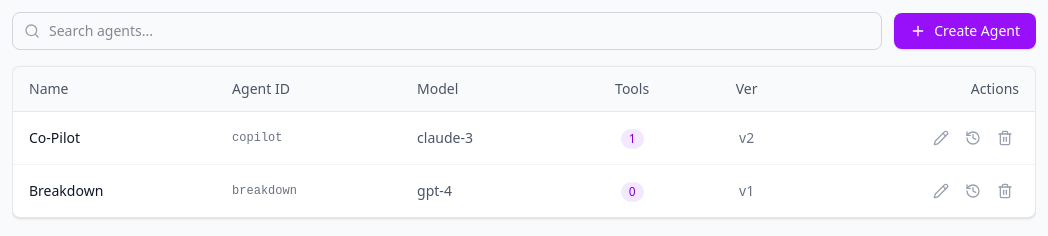
Scenario: AgentList › search filters agents by agent_id
Type "breakdown" into the field with placeholder "Search agents...". click: (447, 31)
box: [12,12,882,50]
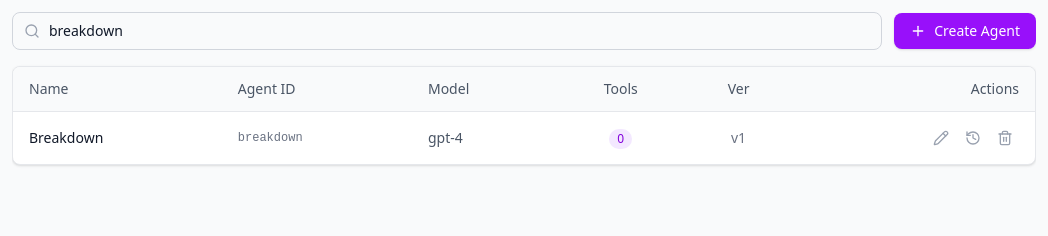
Expected: the text "Breakdown" is shown, [13,112,222,164]
Expected: the text "Co-Pilot" is gone
